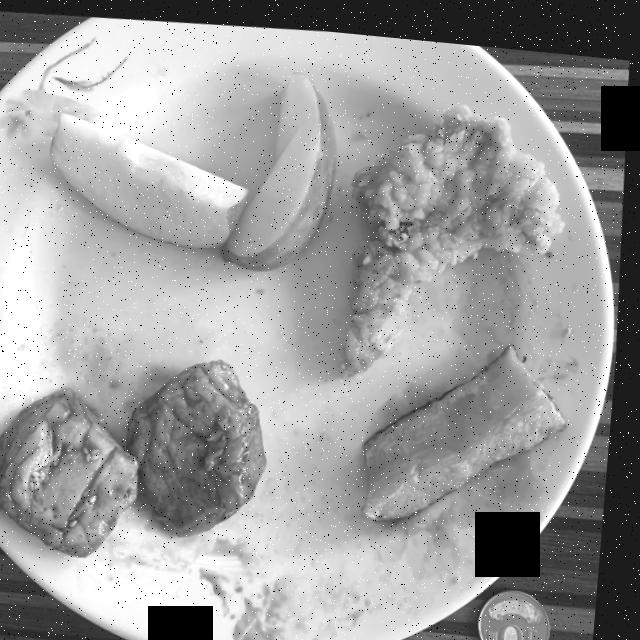apple -sliced-: (52, 67, 336, 265)
coin: (487, 579, 557, 640)
creamy tofu: (0, 355, 272, 554)
fried chicken cutlet: (342, 95, 565, 370)
pumpkin: (369, 334, 572, 513)
